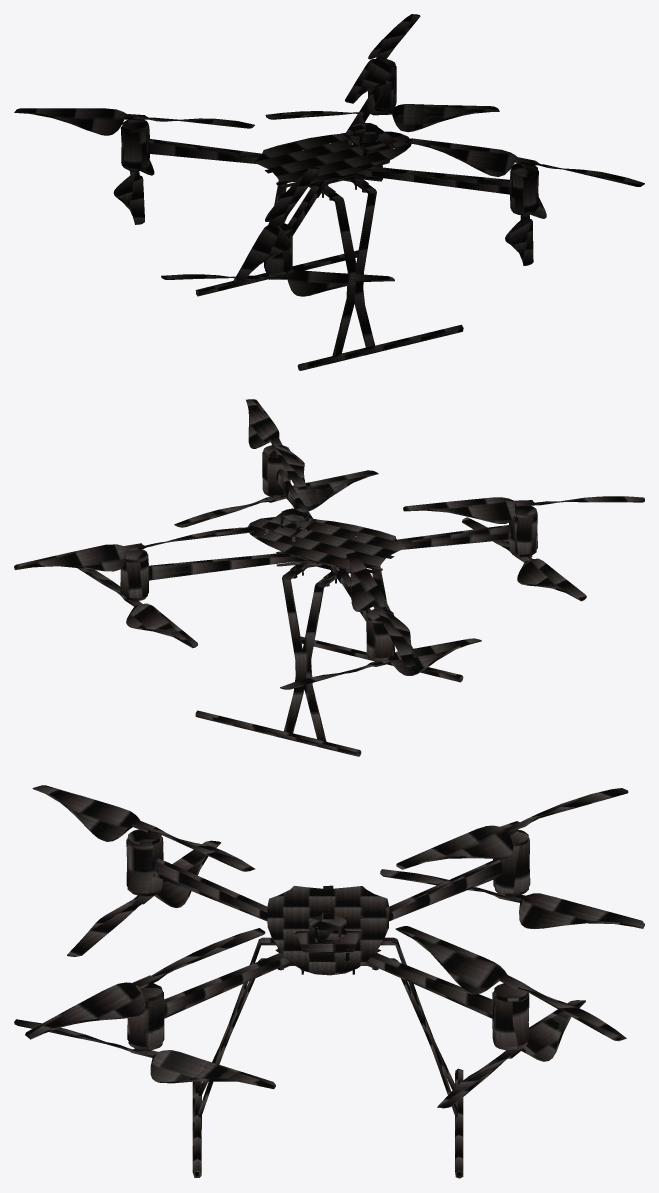
3 views of the same model, one above another, from view 1: azimuth 30°, elevation 25°; view 2: azimuth 150°, elevation 25°; view 3: azimuth 270°, elevation 25° (orthographic). The views are drawn at different scales.
Parts seen in each view (by area): view 1: X8_out_of_box; view 2: X8_out_of_box; view 3: X8_out_of_box.
Boxes of the visible parts, x1=… form: X8_out_of_box: x1=14, y1=14, x2=644, y2=370; X8_out_of_box: x1=14, y1=399, x2=644, y2=756; X8_out_of_box: x1=14, y1=785, x2=644, y2=1178.
Bounding box in the file's own units: 0.9384 × 0.9392 × 0.3795.
Materials: 1 (1 with a texture image).
